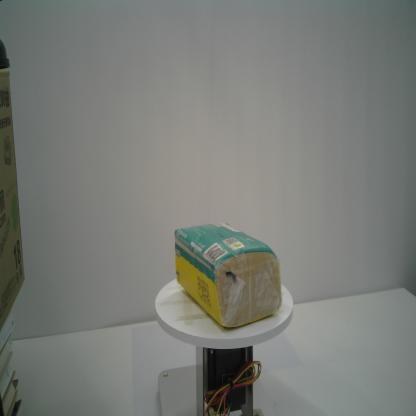Tissue: (174, 219, 282, 330)
